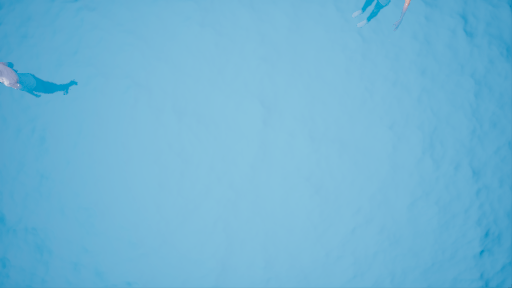person: (1, 59, 82, 100)
